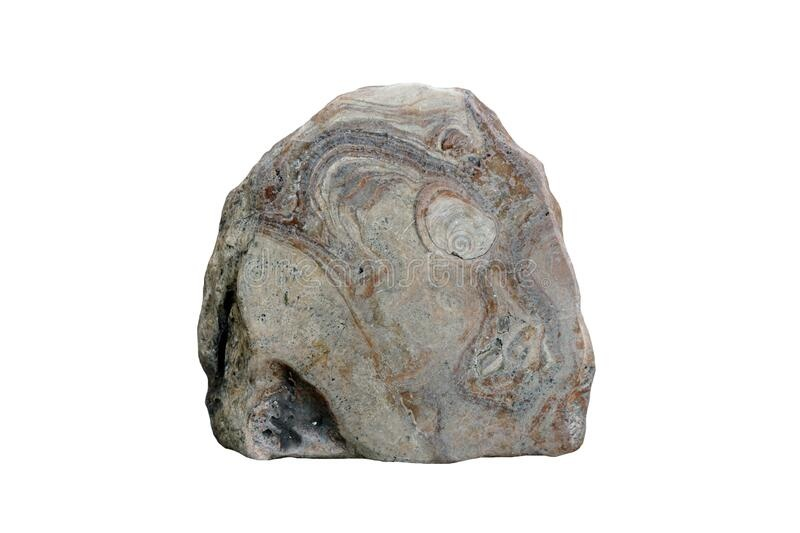obstacle: (198, 84, 593, 461)
